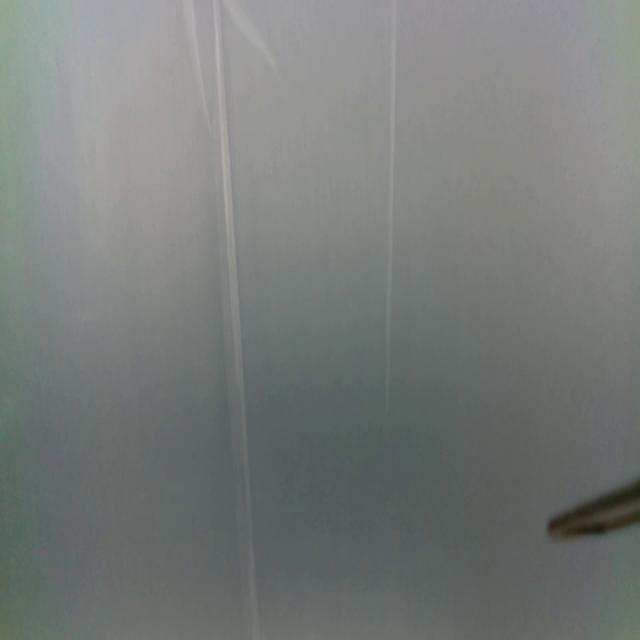crease: (213, 0, 260, 633), (383, 0, 398, 429), (224, 1, 284, 83), (184, 0, 213, 143)
